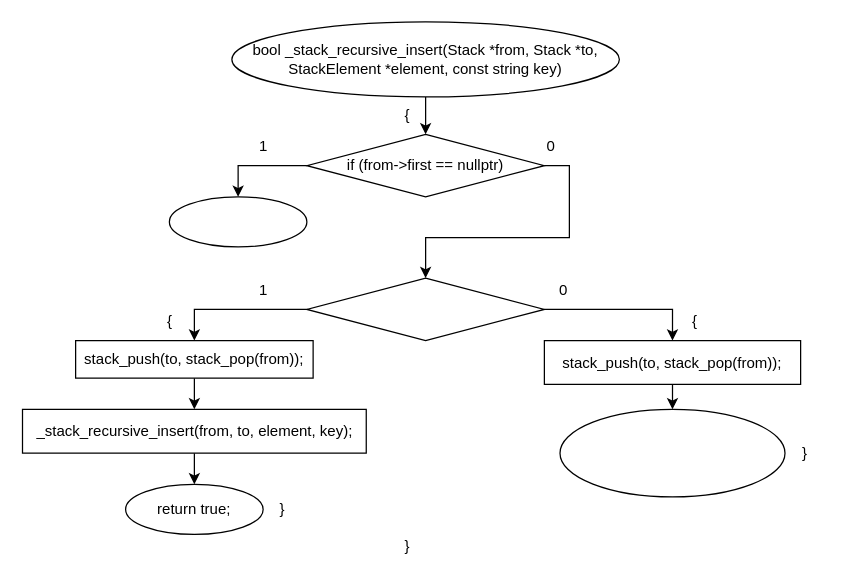
The diagram is 844 pixels wide and 588 high, and some of its shapes have lost their labels. Here are the shapes that lost their labels. From the top down, the centre of each, then its label:
At point (237, 221): "return false;".
At point (425, 309): "if (from->first->key == key)".
At point (672, 452): "return _stack_recursive_insert(from, to, element, key);".
